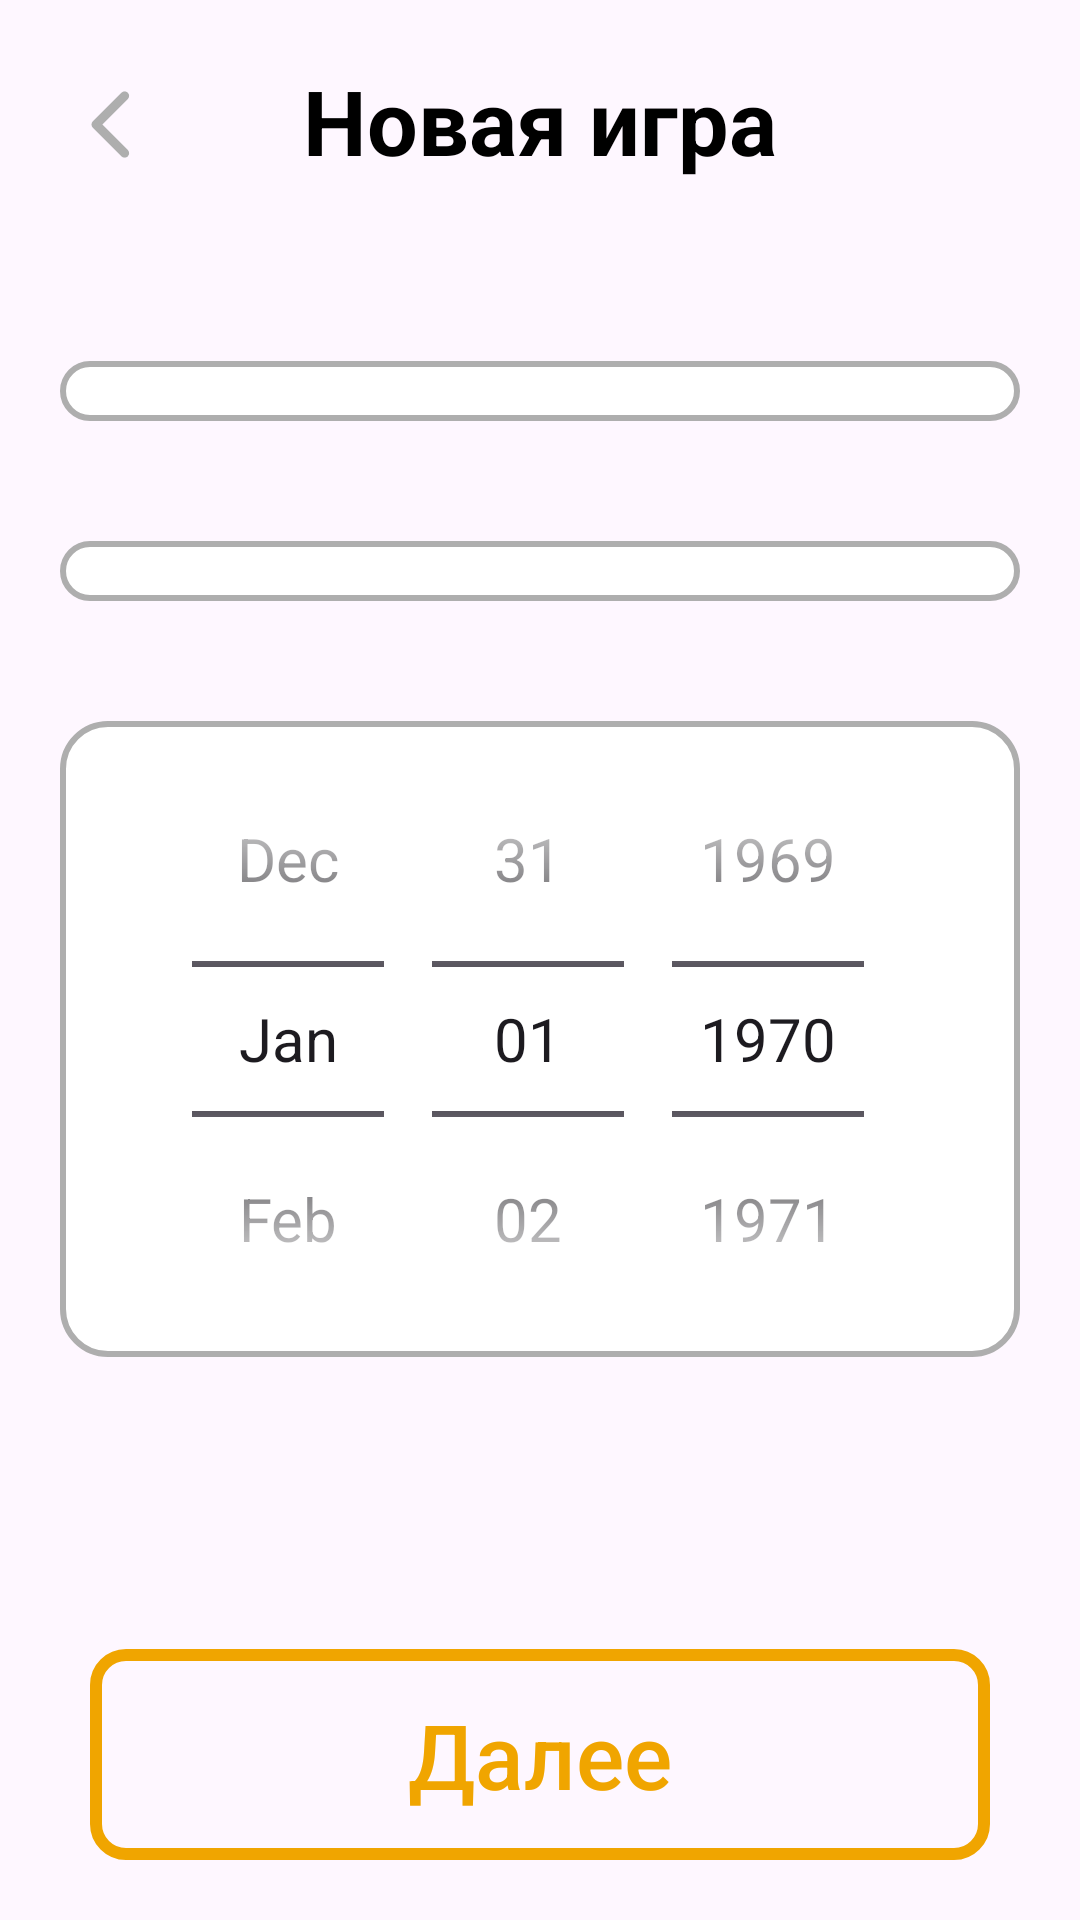

Icons on this 1080x1920 Android screen, each with its box as (x1,y1,x2,y2):
go back: (91,91,129,158)
